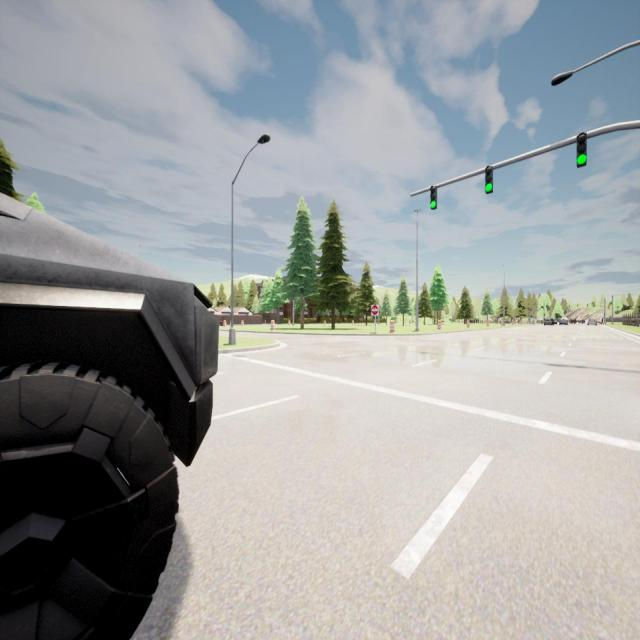Pedestrian: (602, 318, 604, 325)
Traffic_Signs: (371, 305, 379, 316)
Vehicle: (1, 193, 219, 638), (543, 318, 552, 326), (587, 319, 597, 326), (552, 318, 558, 325), (562, 318, 568, 325), (570, 318, 576, 325), (560, 319, 566, 325), (580, 320, 585, 324)
traffic_light: (577, 132, 587, 168), (485, 166, 493, 194), (430, 186, 437, 210), (610, 301, 612, 305), (569, 304, 570, 308), (604, 312, 605, 316), (587, 304, 588, 308), (577, 304, 578, 308)
